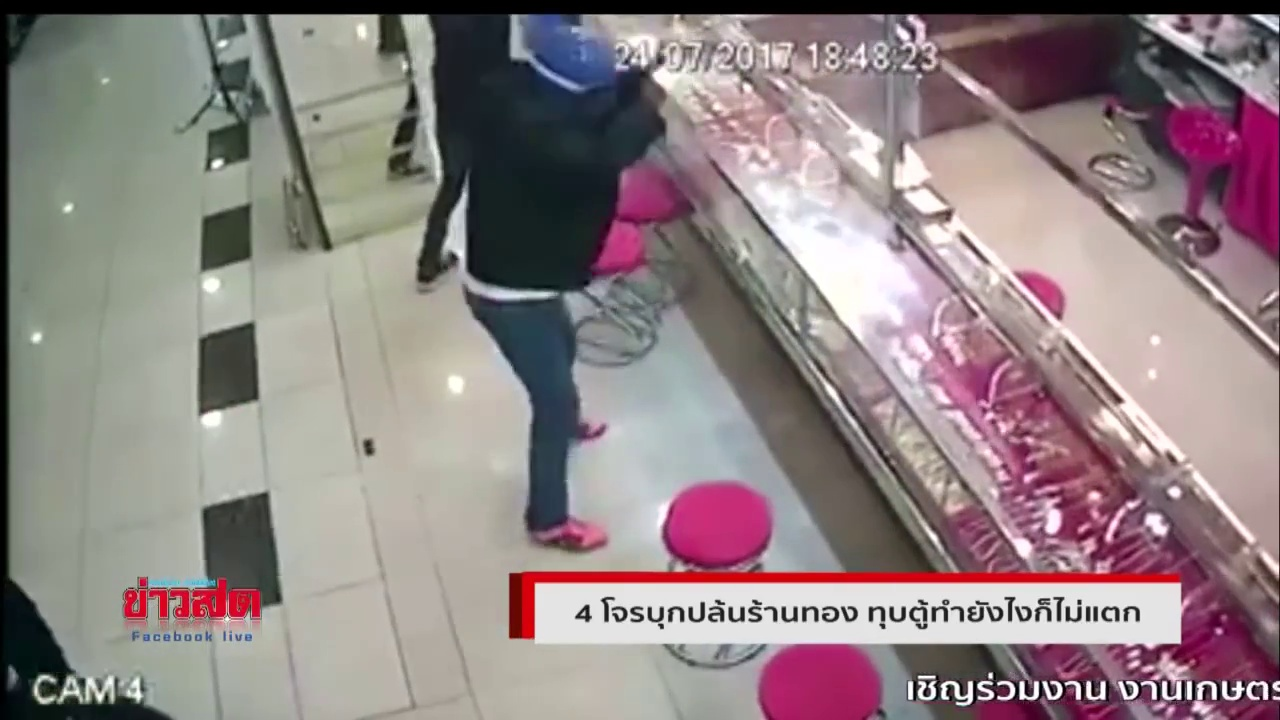helmet: (527, 30, 606, 104)
